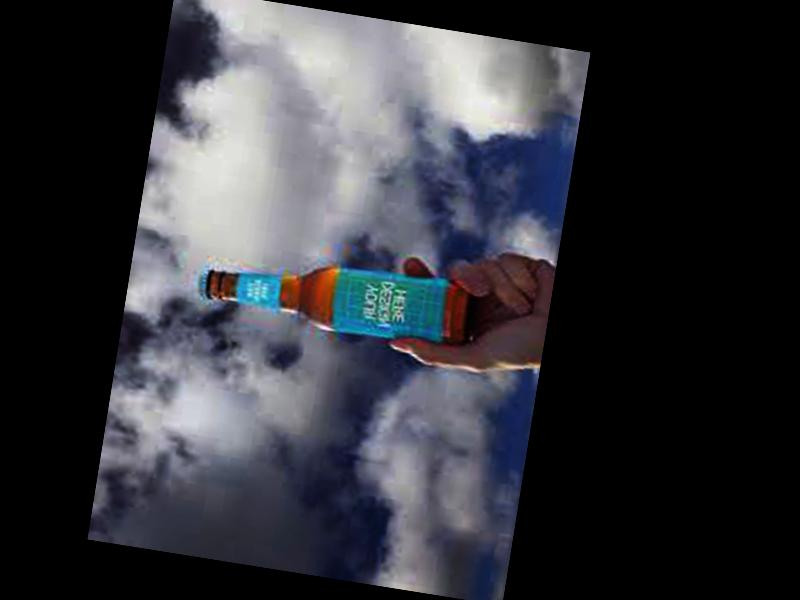Beer: (196, 247, 476, 352)
